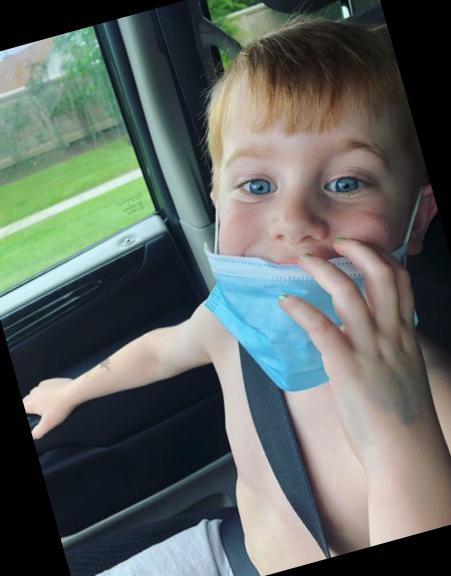mask_weared_incorrect: (198, 113, 430, 355)
